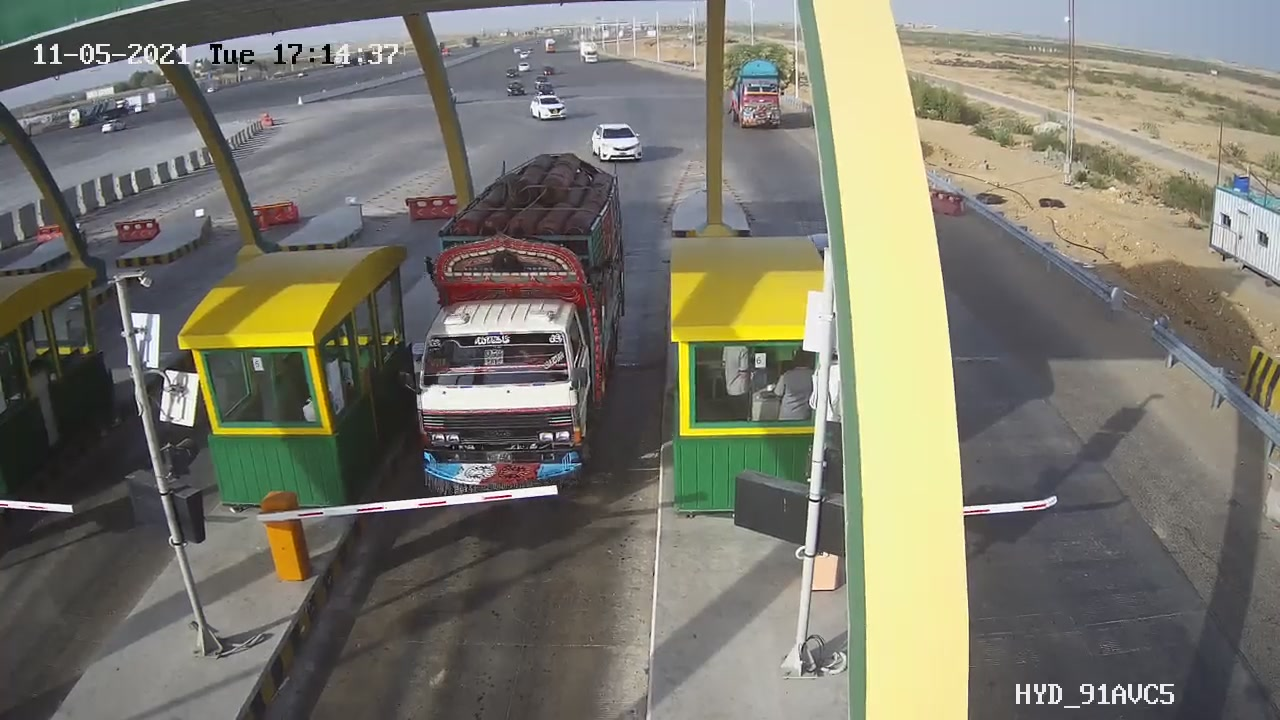F5: (392, 144, 650, 518)
